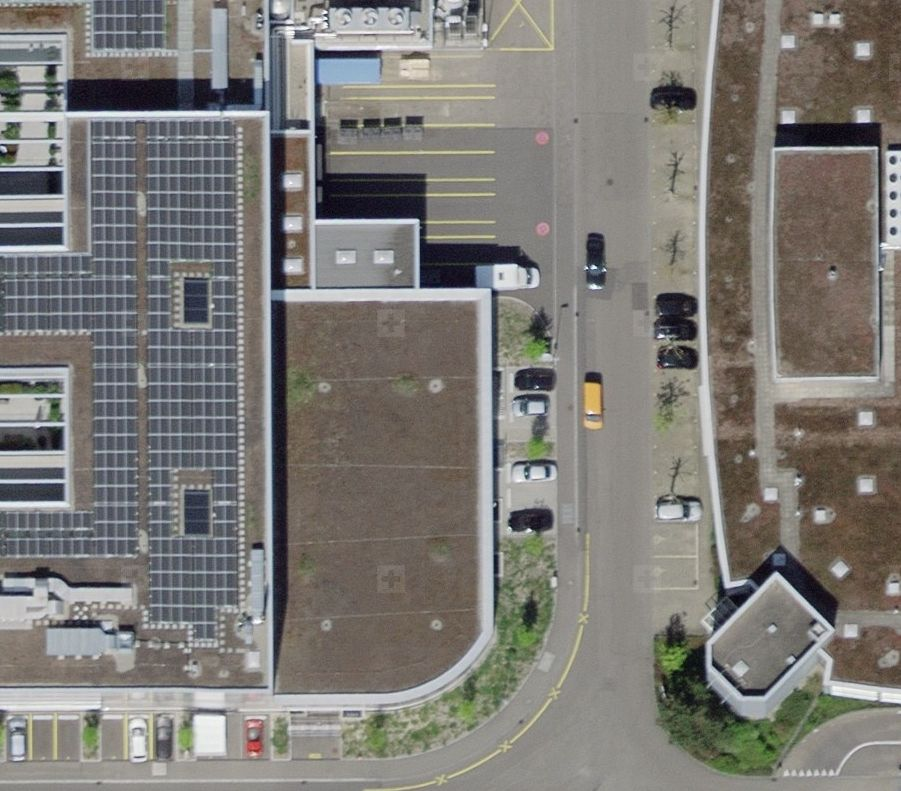solar: (92, 119, 246, 657), (1, 252, 93, 338), (1, 510, 95, 556), (93, 1, 171, 50)
